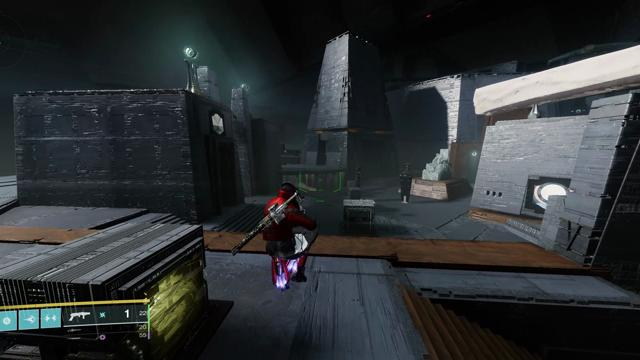commune: (212, 114, 223, 134)
